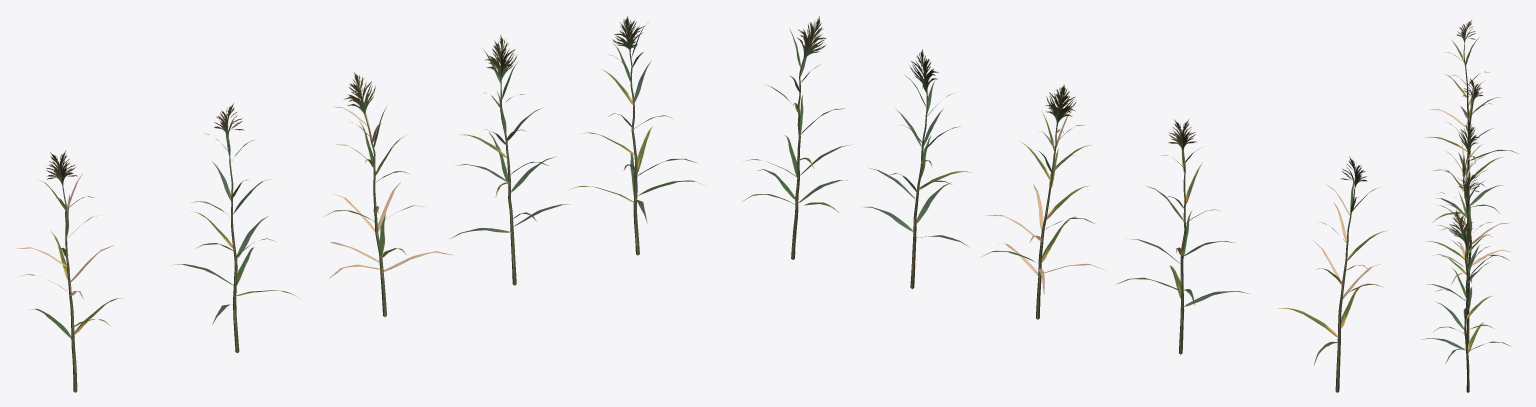
Rendered from realreeds.glb.
3 views of the same model, side by side, from view 1: azimuth 30°, elevation 25°; view 2: azimuth 150°, elevation 25°; view 3: azimuth 270°, elevation 25° (orthographic). The views are drawn at different scales.
Visible parts, largest first — view 1: Reed_5_5, Reed_2_2, Reed_3_3, Reed_1_1, Reed_4_4; view 2: Reed_5_5, Reed_2_2, Reed_3_3, Reed_1_1, Reed_4_4; view 3: Reed_3_3, Reed_5_5, Reed_2_2, Reed_4_4, Reed_1_1.
Part boxes in pixels (x1,y1,x2,y2): Reed_5_5: (324, 72, 453, 316); Reed_2_2: (450, 34, 569, 285); Reed_3_3: (568, 16, 706, 255); Reed_1_1: (171, 103, 299, 353); Reed_4_4: (16, 150, 122, 392); Reed_5_5: (980, 85, 1105, 319); Reed_2_2: (863, 49, 972, 289); Reed_3_3: (742, 16, 851, 259); Reed_1_1: (1116, 119, 1249, 354); Reed_4_4: (1278, 156, 1387, 392); Reed_3_3: (1421, 210, 1511, 392); Reed_5_5: (1424, 119, 1510, 291); Reed_2_2: (1426, 173, 1497, 345); Reed_4_4: (1423, 20, 1518, 195); Reed_1_1: (1432, 78, 1503, 254).
Size of the model in its own units: 5.55 by 2 by 1.05.
2 materials, 2 textured.
